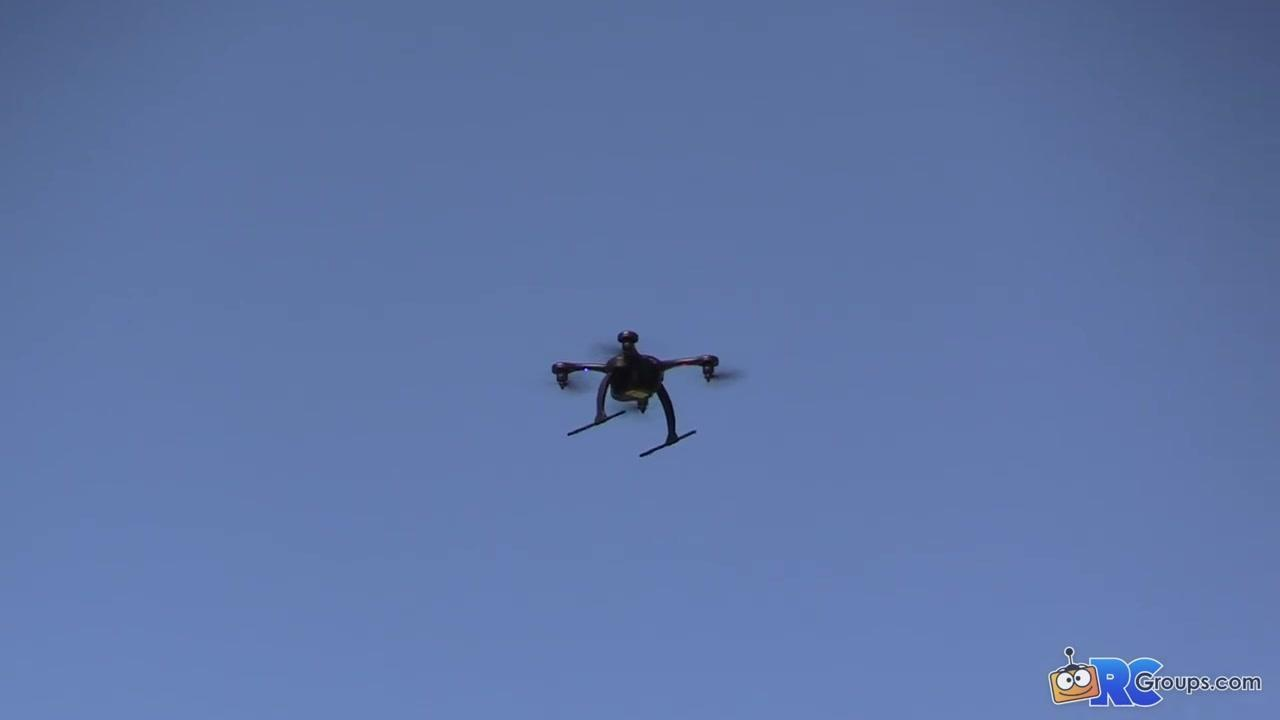UAV: (552, 331, 748, 458)
